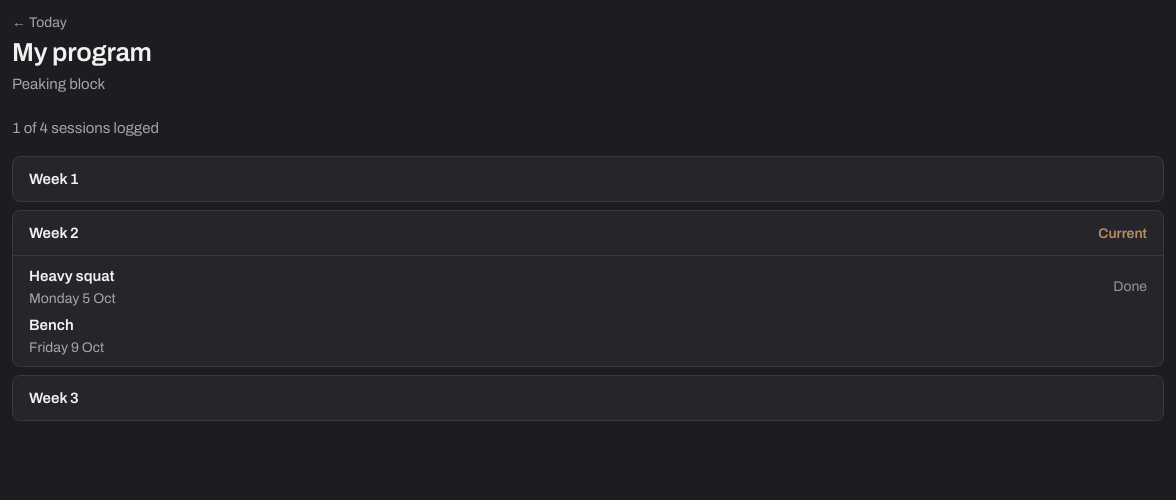
Test: My Program, with a block › labels done, missed and upcoming days, with no streaks
Click the button "Week 1" at x=54, y=179, box top-left (13, 157), bottom-right (1163, 201)
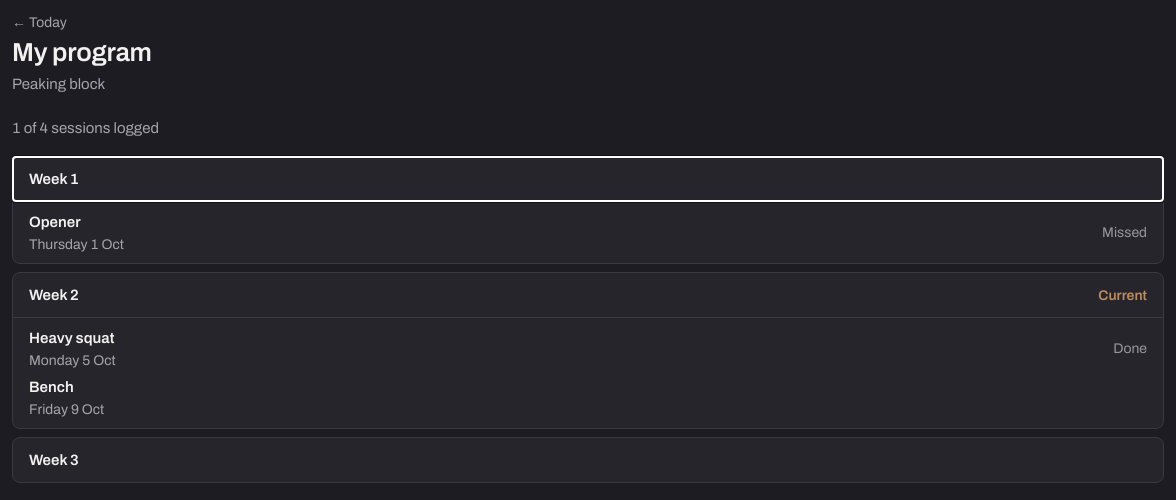
Expected: the text "Done" is shown, top-left (1113, 338), bottom-right (1147, 359)
Result: the text "Missed" is shown at top-left (1102, 222), bottom-right (1147, 243)
